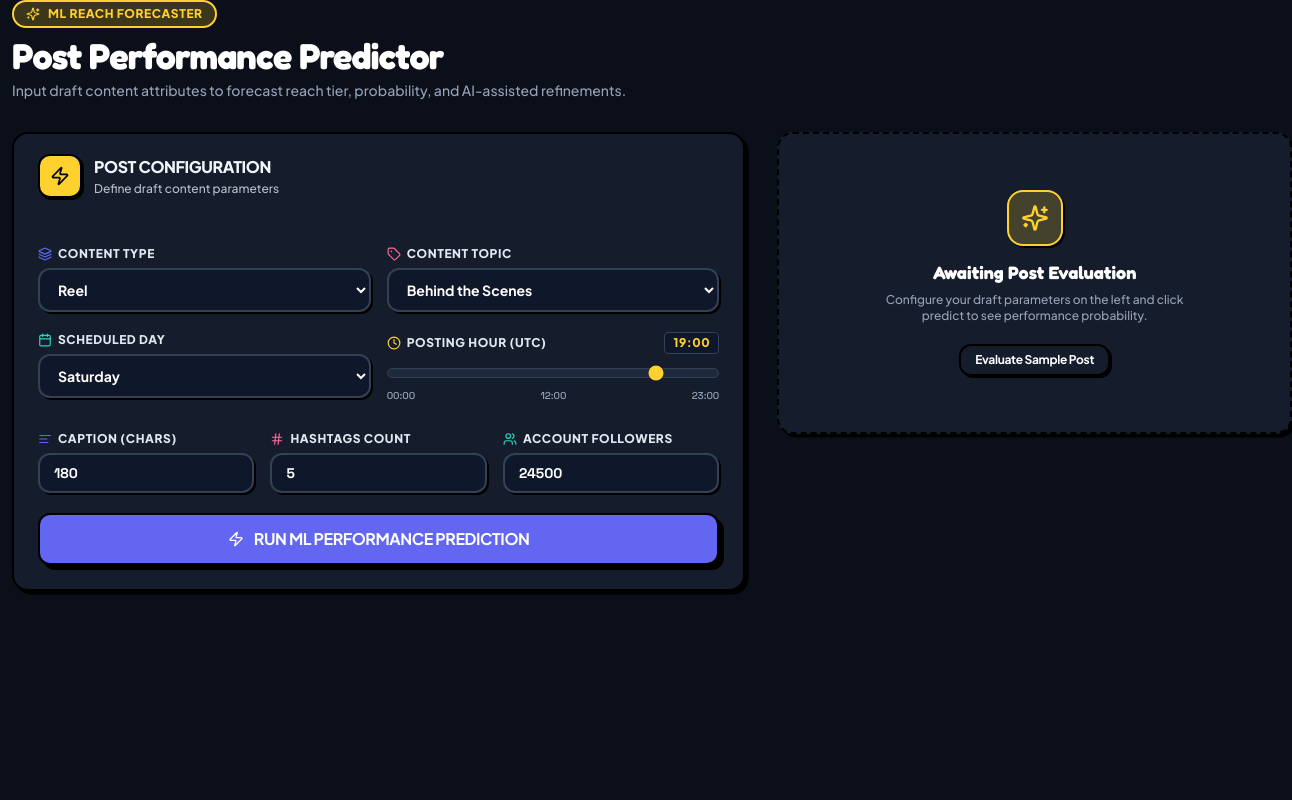
Scenario: Predict Page Component › submits prediction form and displays result tier and probability
Click the button "RUN ML PERFORMANCE PREDICTION".
click(379, 539)  # box [38, 513, 719, 565]
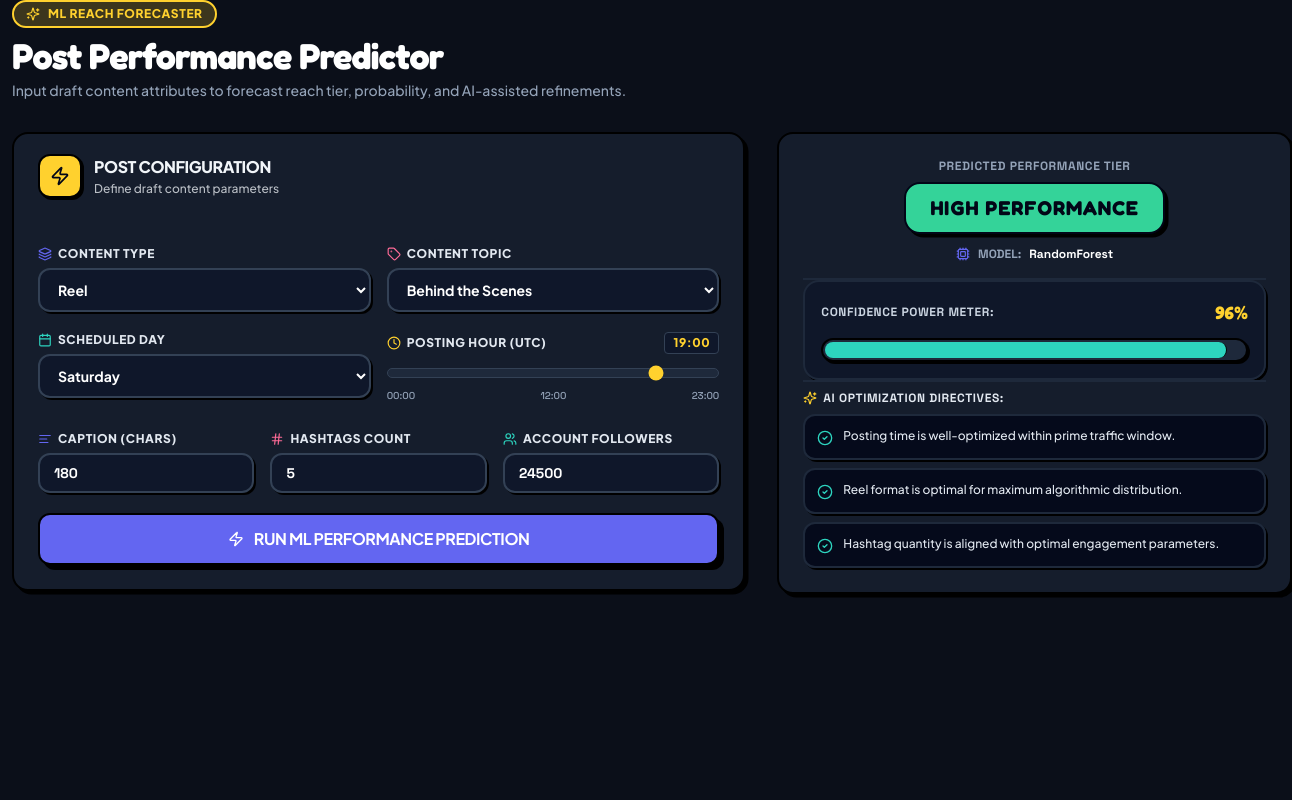
Check: the text "PREDICTED PERFORMANCE TIER" is shown, box [939, 158, 1131, 174]
Check: the text "RandomForest" is shown, box [1029, 246, 1113, 262]
